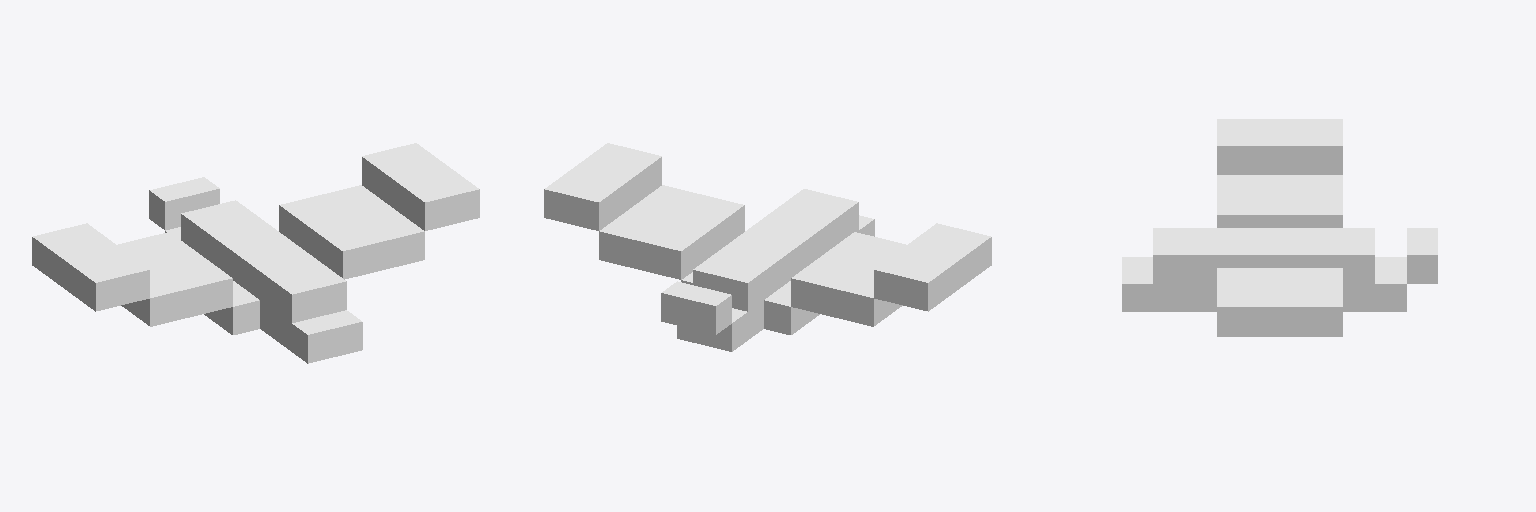
Rendered from bird1Fr1.obj.
The picture shows the model from 3 angles: view 1: azimuth 30°, elevation 25°; view 2: azimuth 150°, elevation 25°; view 3: azimuth 270°, elevation 25°; orthographic projection.
Visible parts, largest first — view 1: object 1; view 2: object 1; view 3: object 1.
Boxes of the visible parts, box(x1,y1,x2,y2) form: object 1: box(32, 143, 479, 363); object 1: box(544, 143, 991, 351); object 1: box(1122, 119, 1437, 336).
Size of the model in its own units: 1.4 by 0.3 by 1.